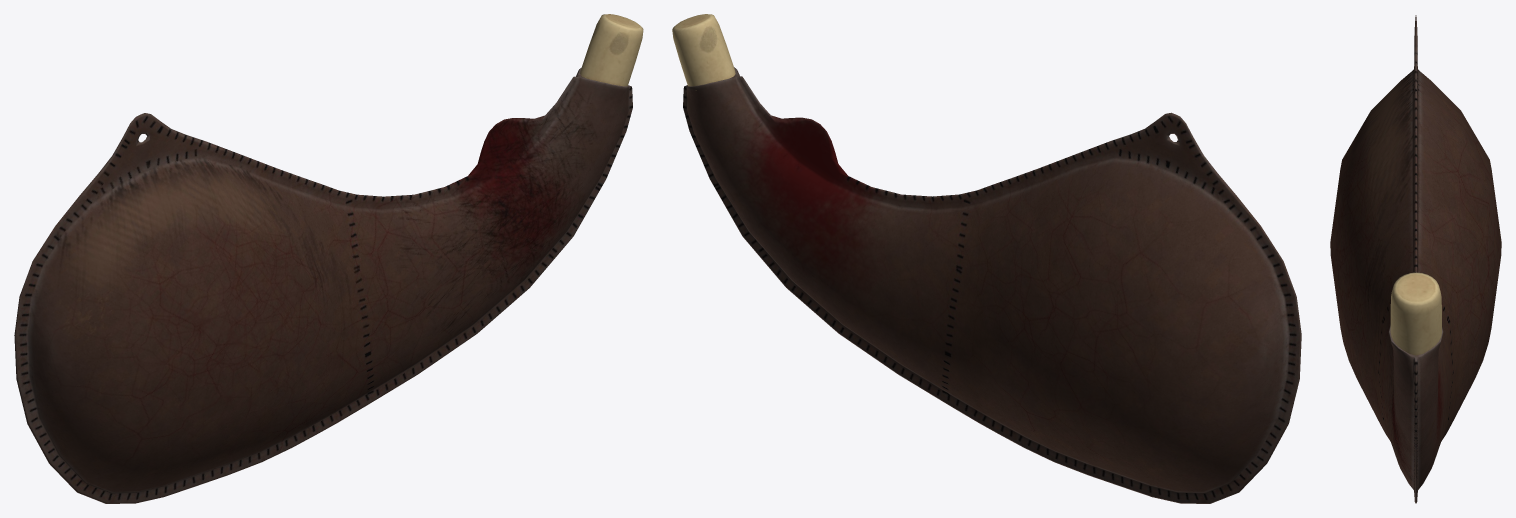
The model's file is medieval_water_bag.fbx.
3 views of the same model, side by side, from view 1: azimuth 30°, elevation 25°; view 2: azimuth 150°, elevation 25°; view 3: azimuth 270°, elevation 25° (orthographic). The views are drawn at different scales.
Visible parts, largest first — view 1: Medivalwatercan1; view 2: Medivalwatercan1; view 3: Medivalwatercan1.
Boxes of the visible parts, x1,y1,x2,y2 form: Medivalwatercan1: (14,14,643,503); Medivalwatercan1: (672,14,1301,503); Medivalwatercan1: (1330,15,1501,503).
Bounding box in the file's own units: 2 × 1.19 × 0.4516.
Materials: 1 (1 with a texture image).
